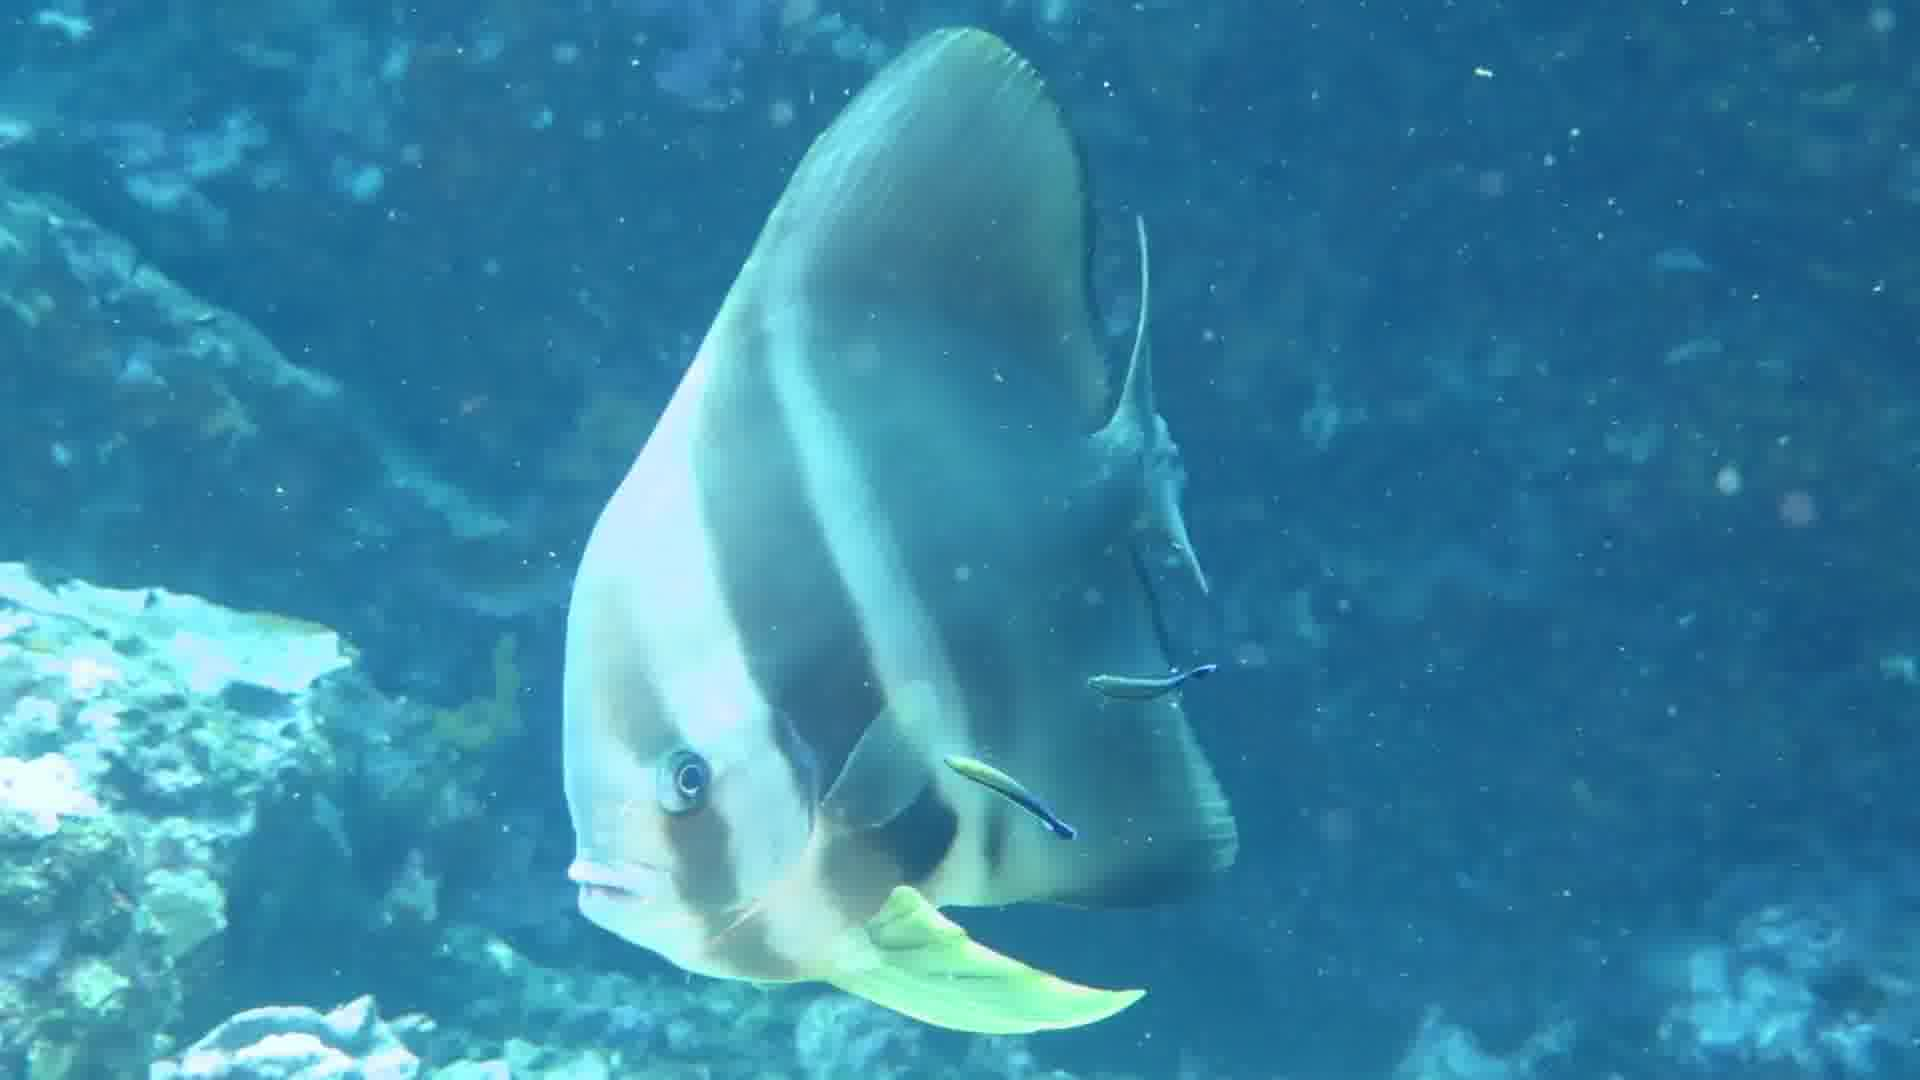Platax teira: (355, 18, 1436, 1033)
